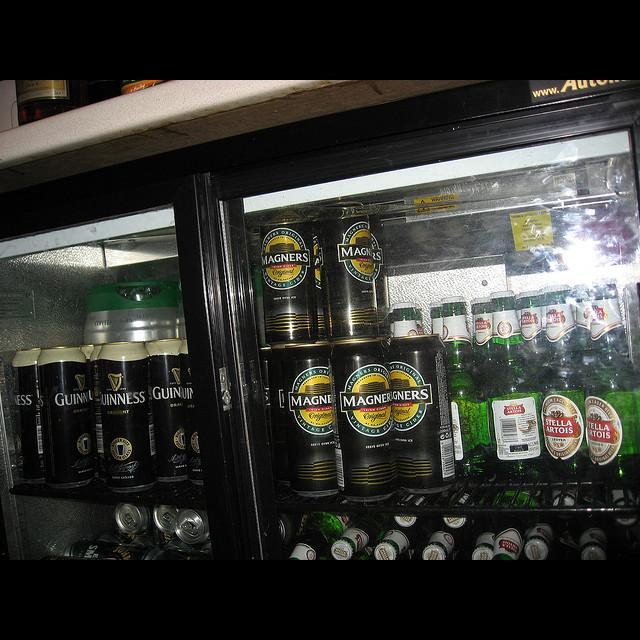Refrigerator: (196, 81, 636, 553), (0, 177, 251, 551)
